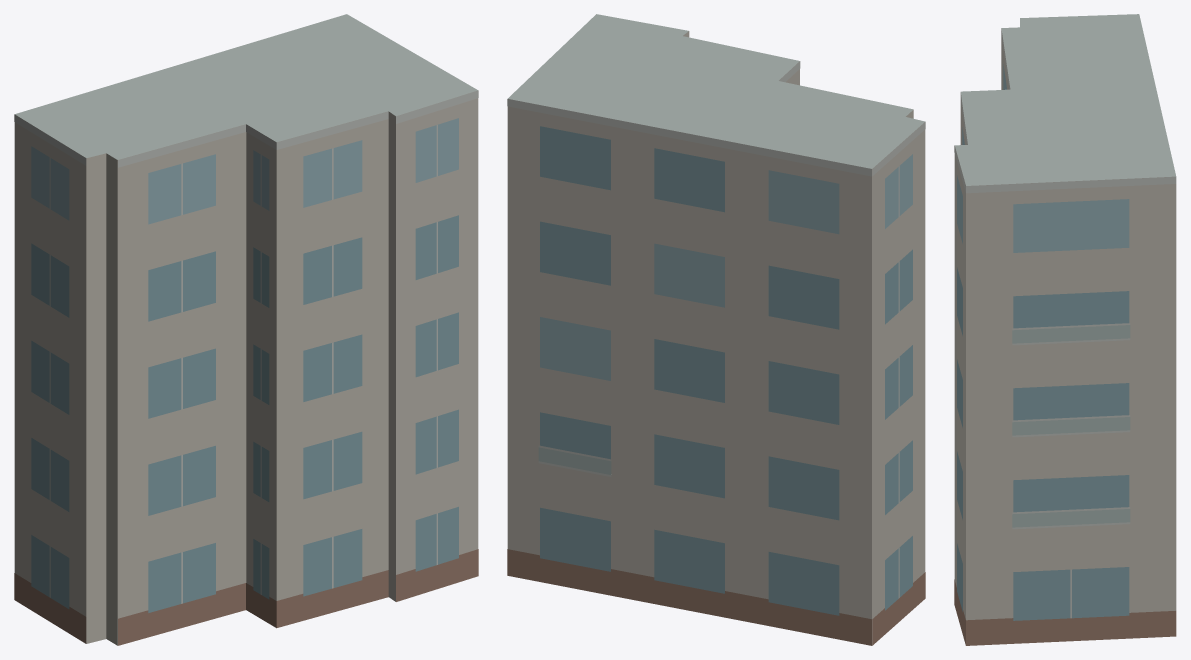
The model's file is survey-upis-32640858.glb.
The picture shows the model from 3 angles, left to right: view 1: azimuth 30°, elevation 25°; view 2: azimuth 150°, elevation 25°; view 3: azimuth 270°, elevation 25°; orthographic projection. The views are drawn at different scales.
Parts seen in each view (by area): view 1: survey-upis-32640858.tmp; view 2: survey-upis-32640858.tmp; view 3: survey-upis-32640858.tmp.
Boxes of the visible parts, left/top/right/bottom form: survey-upis-32640858.tmp: left=14, top=14, right=478, bottom=645; survey-upis-32640858.tmp: left=507, top=14, right=925, bottom=645; survey-upis-32640858.tmp: left=954, top=14, right=1176, bottom=645.
Size of the model in its own units: 12.24 by 15.25 by 6.67.
